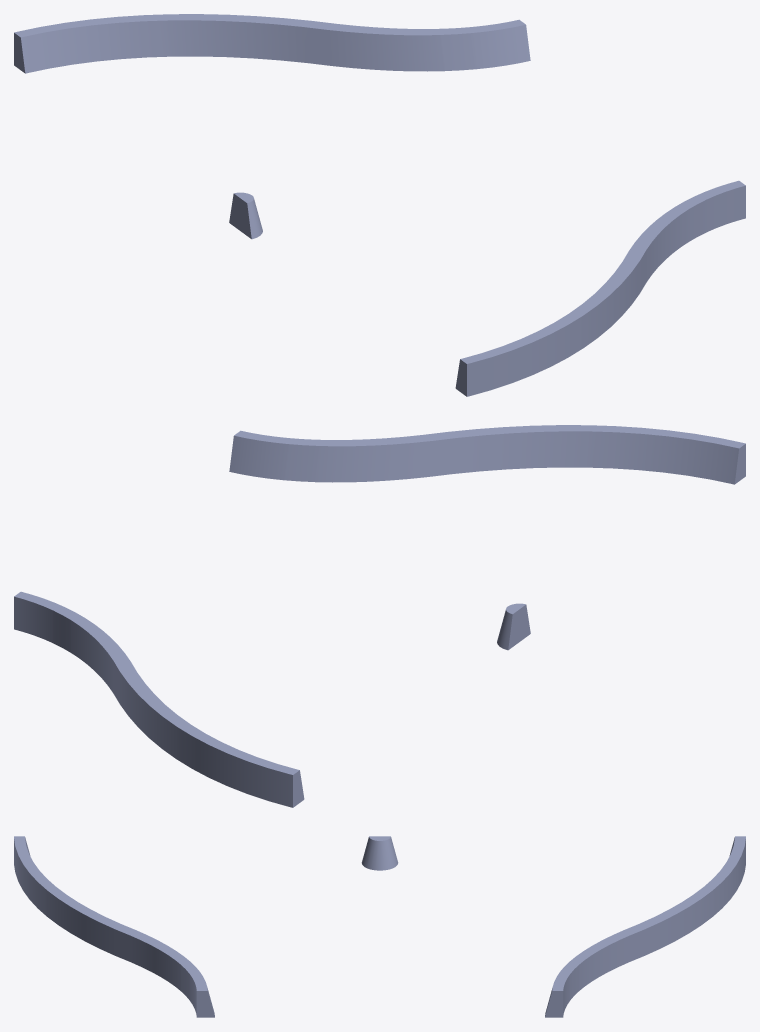
File: road-split-barrier.glb
The picture shows the model from 3 angles, top to bottom: view 1: azimuth 30°, elevation 25°; view 2: azimuth 150°, elevation 25°; view 3: azimuth 270°, elevation 25°; orthographic projection. The views are drawn at different scales.
Visible parts, largest first — view 1: road-split-barrier; view 2: road-split-barrier; view 3: road-split-barrier.
Boxes of the visible parts, <box> form: road-split-barrier: <box>14,14,745,396</box>; road-split-barrier: <box>14,425,745,807</box>; road-split-barrier: <box>14,836,745,1017</box>.
Size of the model in its own units: 1 by 0.08 by 2.
Materials: 1 (1 with a texture image).
